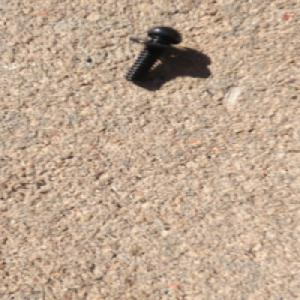BoltWasher: (122, 24, 184, 83)
